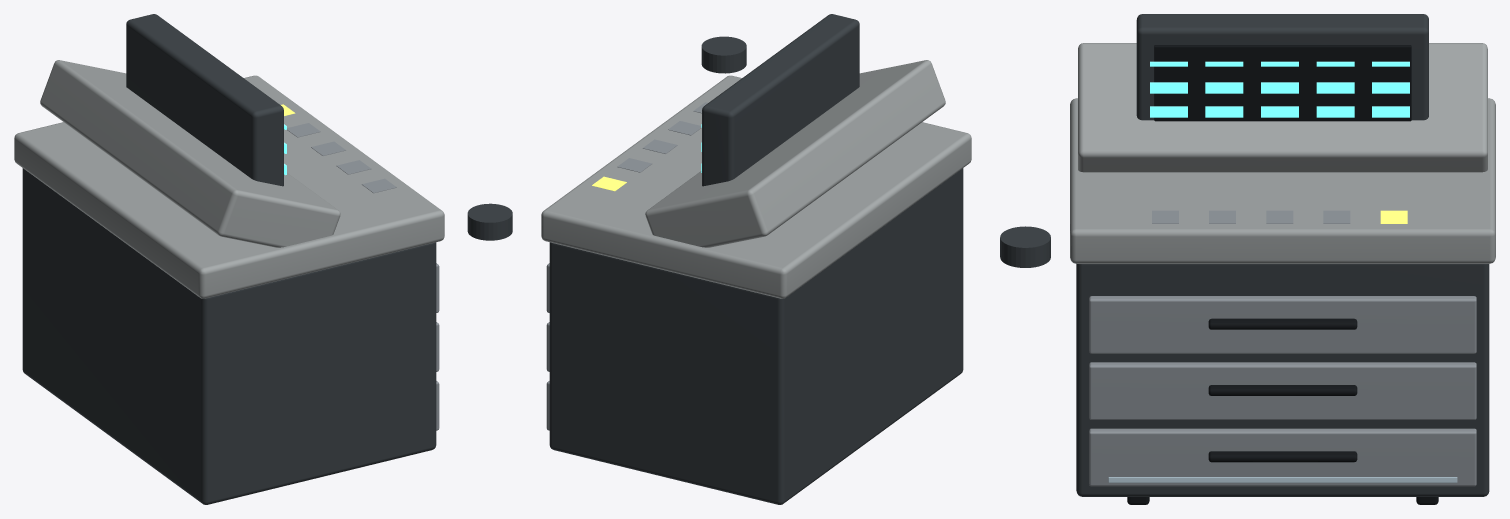
The model's file is ZH_ENV_Control_Console_01.fbx.
3 views of the same model, side by side, from view 1: azimuth 30°, elevation 25°; view 2: azimuth 150°, elevation 25°; view 3: azimuth 270°, elevation 25° (orthographic). The views are drawn at different scales.
Parts seen in each view (by area): view 1: Console module | base.003, Console module | countertop.003, Console | sloping fascia.003, Console | diagnostics | frame.003, Console | interface knob.002; view 2: Console module | base.003, Console module | countertop.003, Console | sloping fascia.003, Console | diagnostics | frame.003, Console | interface knob.002; view 3: Console module | countertop.003, Console | sloping fascia.003, Console module | base.003, Console module | drawer.011, Console module | drawer.010, Console module | drawer.009, Console | diagnostics | screen.003, Console | diagnostics | frame.003, Console | toe light.003, Console | interface knob.002, Console module | pull.009, Console module | pull.011 (+1 smaller).
Boxes of the visible parts, <box> form: Console module | base.003: <box>22,168,436,504</box>; Console module | countertop.003: <box>14,75,444,298</box>; Console | sloping fascia.003: <box>40,60,340,247</box>; Console | diagnostics | frame.003: <box>126,14,283,186</box>; Console | interface knob.002: <box>467,203,512,240</box>; Console module | base.003: <box>549,168,963,504</box>; Console module | countertop.003: <box>541,75,971,298</box>; Console | sloping fascia.003: <box>645,60,945,247</box>; Console | diagnostics | frame.003: <box>702,14,859,186</box>; Console | interface knob.002: <box>701,36,746,73</box>; Console module | countertop.003: <box>1070,98,1495,263</box>; Console | sloping fascia.003: <box>1078,43,1487,172</box>; Console module | base.003: <box>1076,264,1489,496</box>; Console module | drawer.011: <box>1089,296,1476,353</box>; Console module | drawer.010: <box>1089,362,1476,419</box>; Console module | drawer.009: <box>1089,428,1476,486</box>; Console | diagnostics | screen.003: <box>1154,45,1411,121</box>; Console | diagnostics | frame.003: <box>1136,14,1428,120</box>; Console | toe light.003: <box>1108,477,1457,482</box>; Console | interface knob.002: <box>1000,226,1050,267</box>; Console module | pull.009: <box>1208,451,1357,462</box>; Console module | pull.011: <box>1208,318,1357,329</box>.
Bounding box in the file's own units: 1.18 × 1.46 × 1.56.
